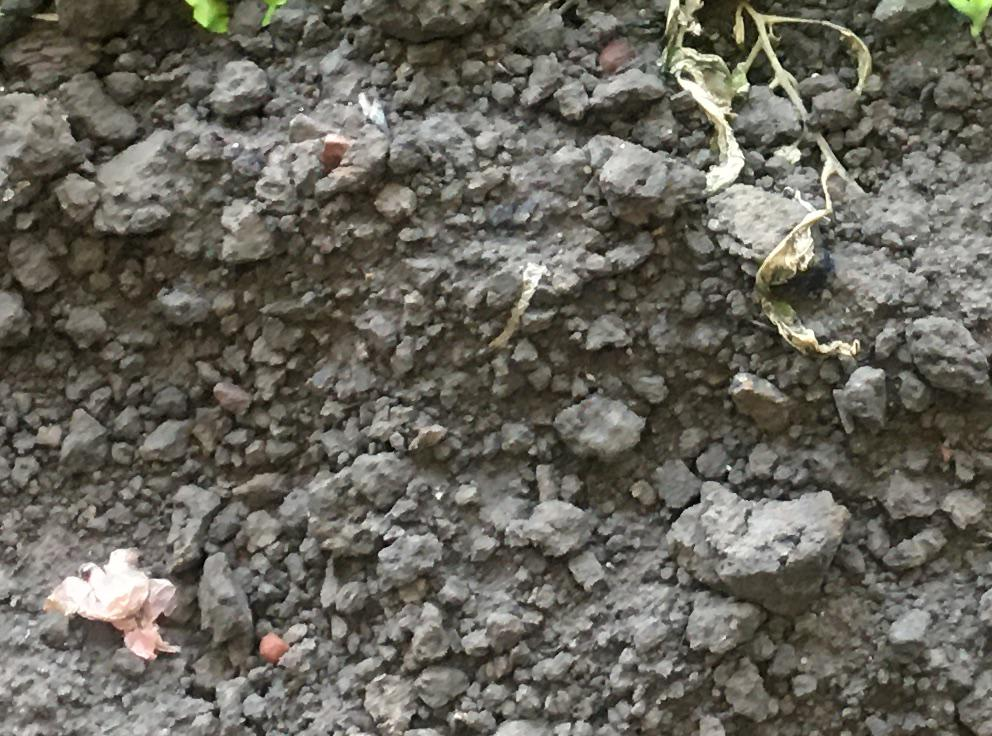block: (665, 479, 848, 619), (709, 183, 827, 273), (907, 315, 992, 402), (552, 393, 647, 467)
